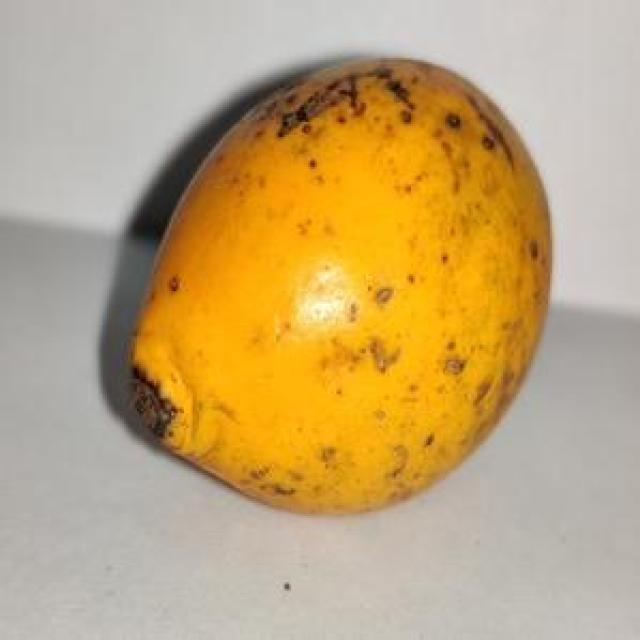good: (126, 58, 554, 518)
